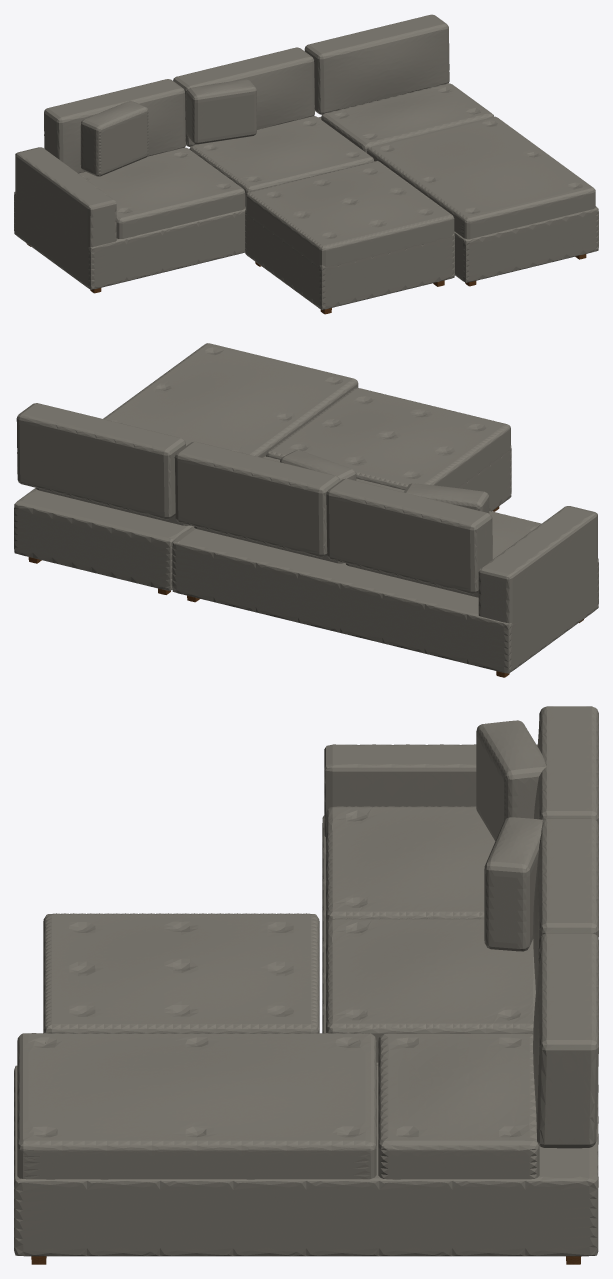
File: miles.glb
3 views of the same model, one above another, from view 1: azimuth 30°, elevation 25°; view 2: azimuth 150°, elevation 25°; view 3: azimuth 270°, elevation 25° (orthographic). The views are drawn at different scales.
Parts seen in each view (by area): view 1: upholstery; view 2: upholstery; view 3: upholstery.
Part boxes in pixels (x1,y1,x2,y2): upholstery: (14, 14, 598, 309); upholstery: (14, 343, 598, 673); upholstery: (14, 706, 598, 1256).
Bounding box in the file's own units: 3.08 × 0.899 × 2.07.
Materials: 2 (2 with a texture image).
